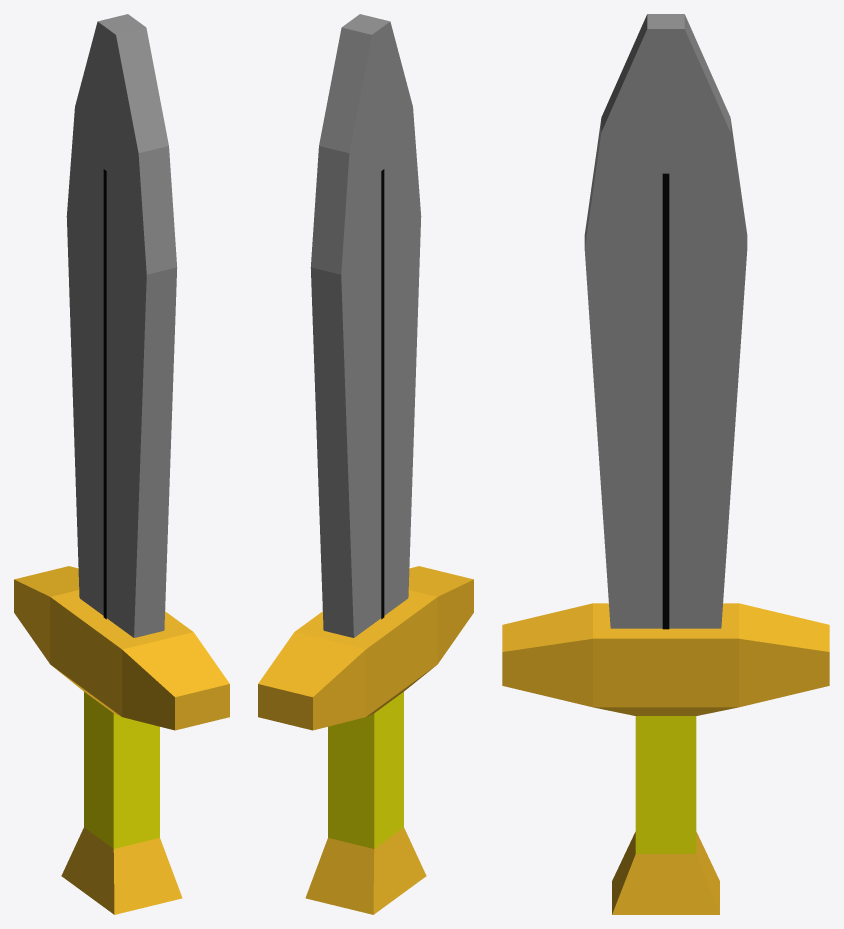
Rendered from swordTemplate.glb.
3 renders of one model, left to right at view 1: azimuth 30°, elevation 25°; view 2: azimuth 150°, elevation 25°; view 3: azimuth 270°, elevation 25°, orthographic.
Visible parts, largest first — view 1: Cube; view 2: Cube; view 3: Cube.
Part boxes in pixels (x1,y1,x2,y2): Cube: (14,14,229,914); Cube: (258,14,473,914); Cube: (502,14,829,914).
Bounding box in the file's own units: 2.26 × 26 × 8.8.
